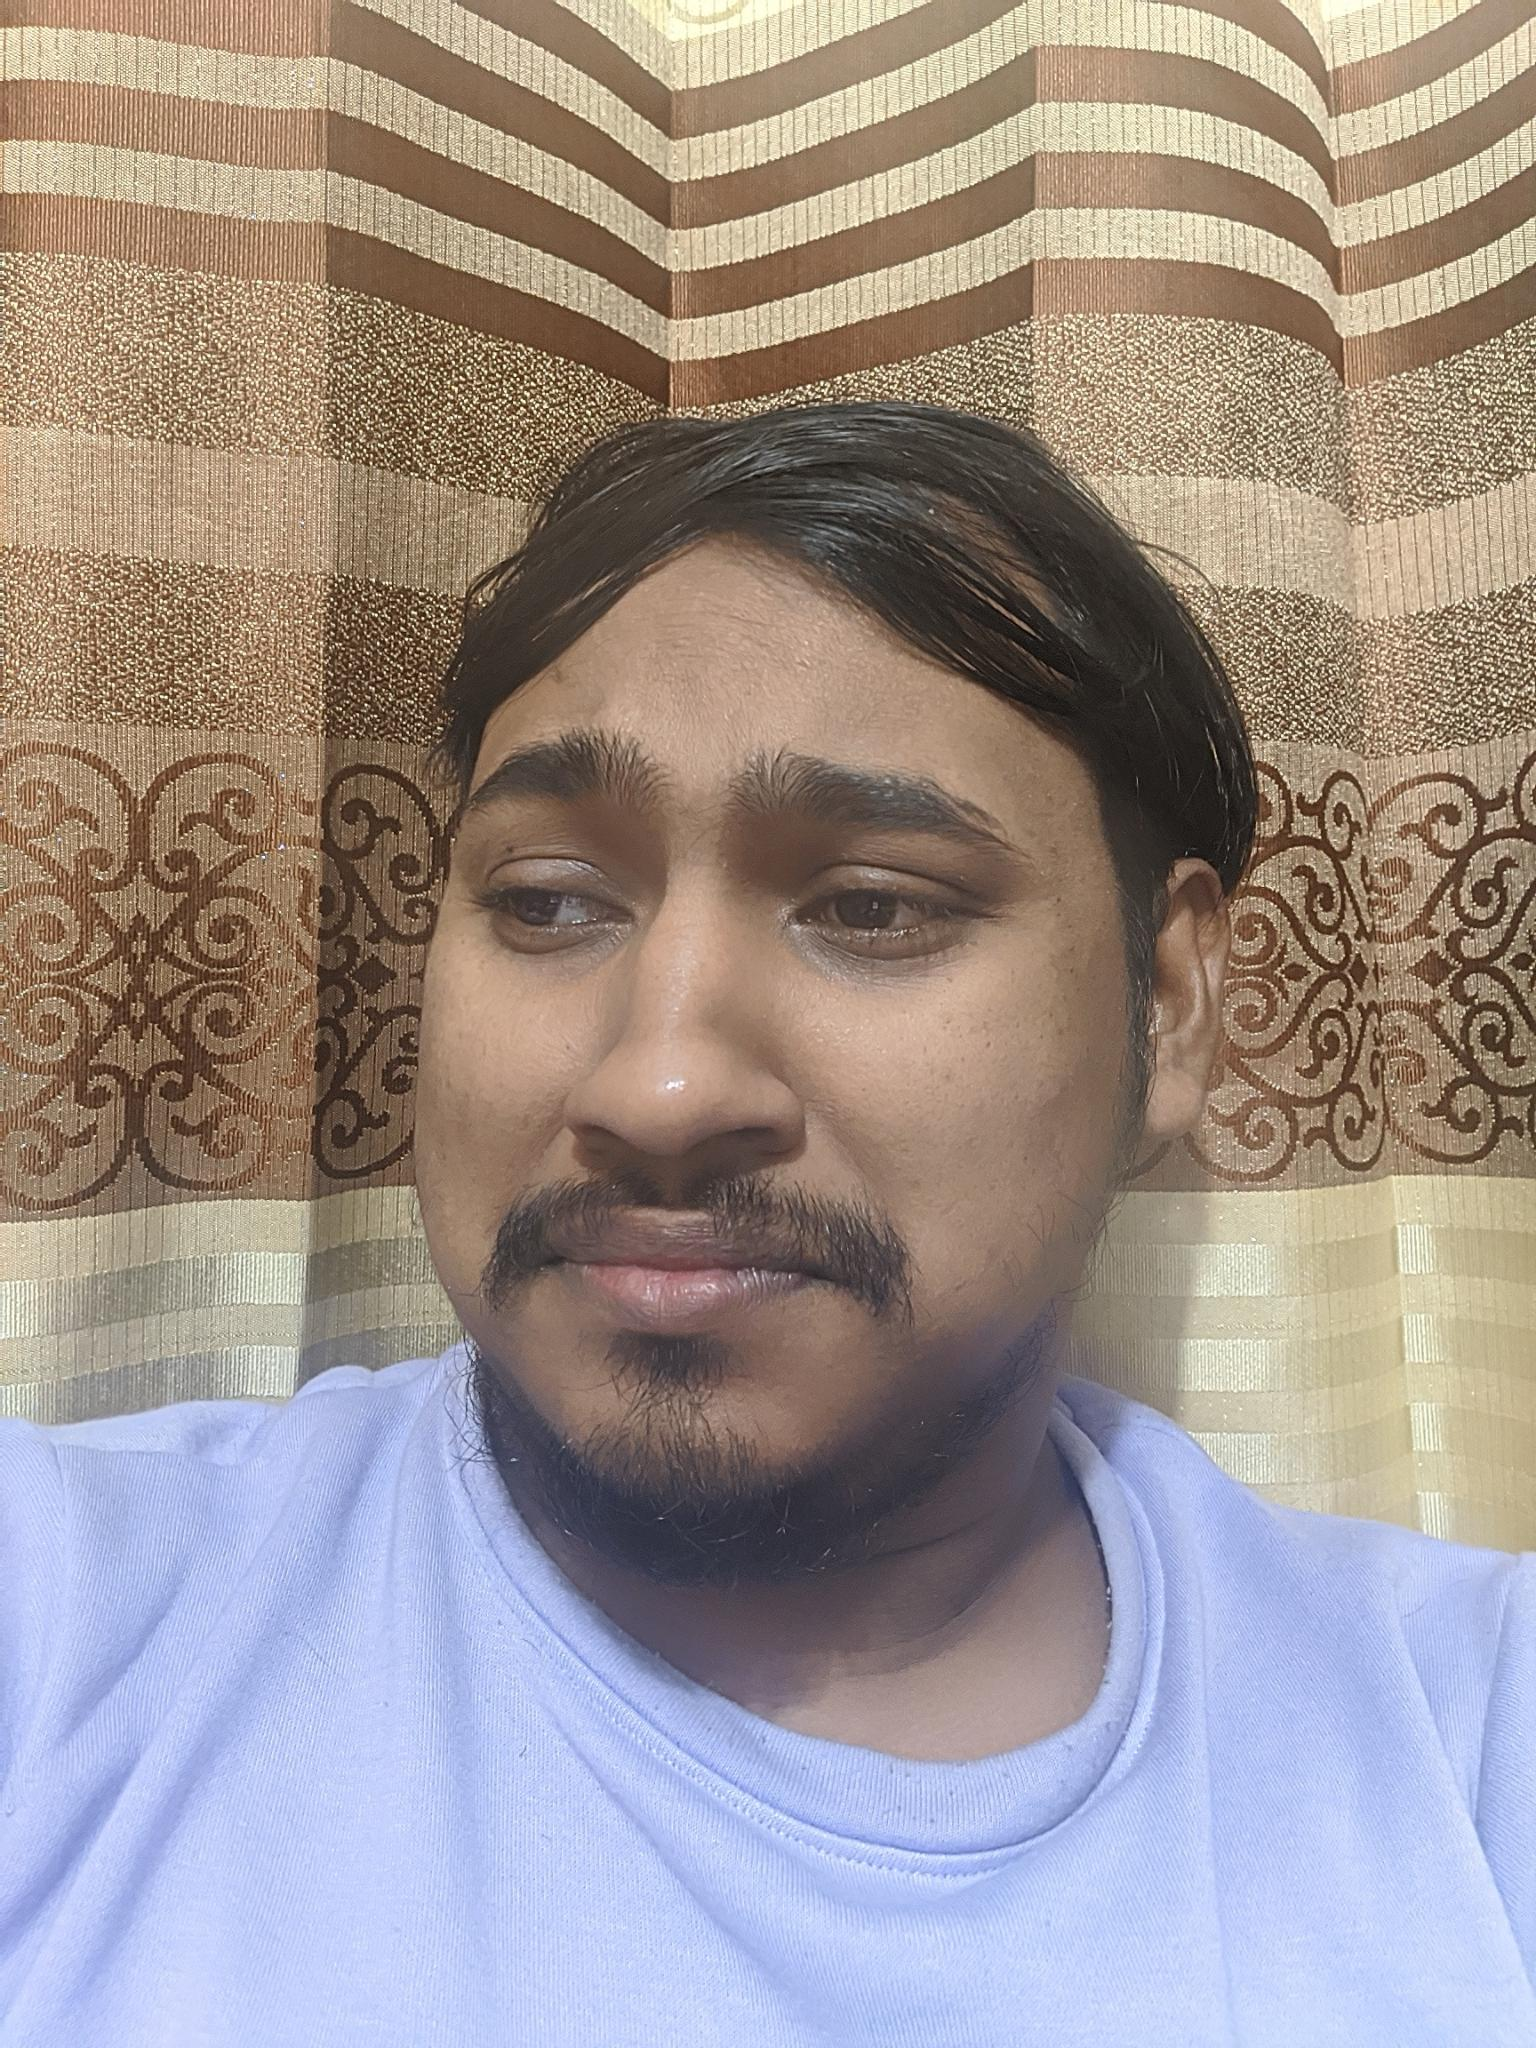Sad: (402, 650, 1094, 1532)
